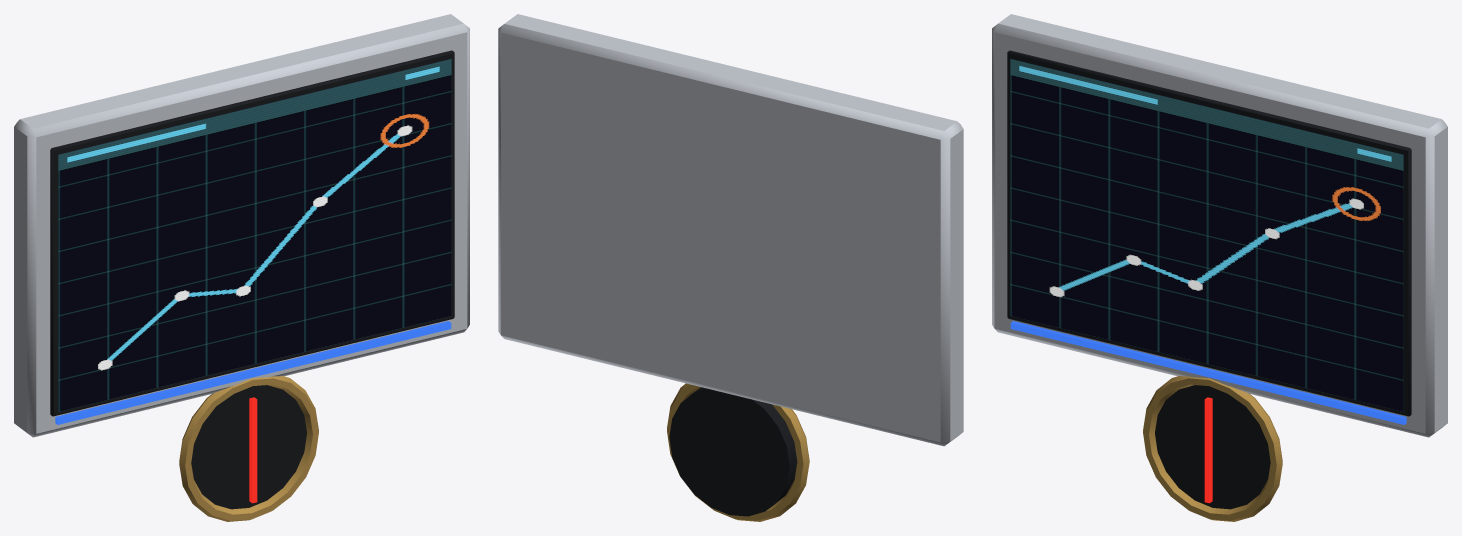
Rendered from display_heading_display.glb.
3 renders of one model, left to right at view 1: azimuth 30°, elevation 25°; view 2: azimuth 150°, elevation 25°; view 3: azimuth 330°, elevation 25°, orthographic. The views are drawn at different scales.
Parts seen in each view (by area): view 1: display_heading_display; view 2: display_heading_display; view 3: display_heading_display.
Boxes of the visible parts, left/top/right/bottom form: display_heading_display: left=14, top=14, right=469, bottom=521; display_heading_display: left=498, top=14, right=963, bottom=521; display_heading_display: left=992, top=14, right=1447, bottom=521.
Size of the model in its own units: 0.9 by 0.862 by 0.081.
Materials: 6 (1 with a texture image).
